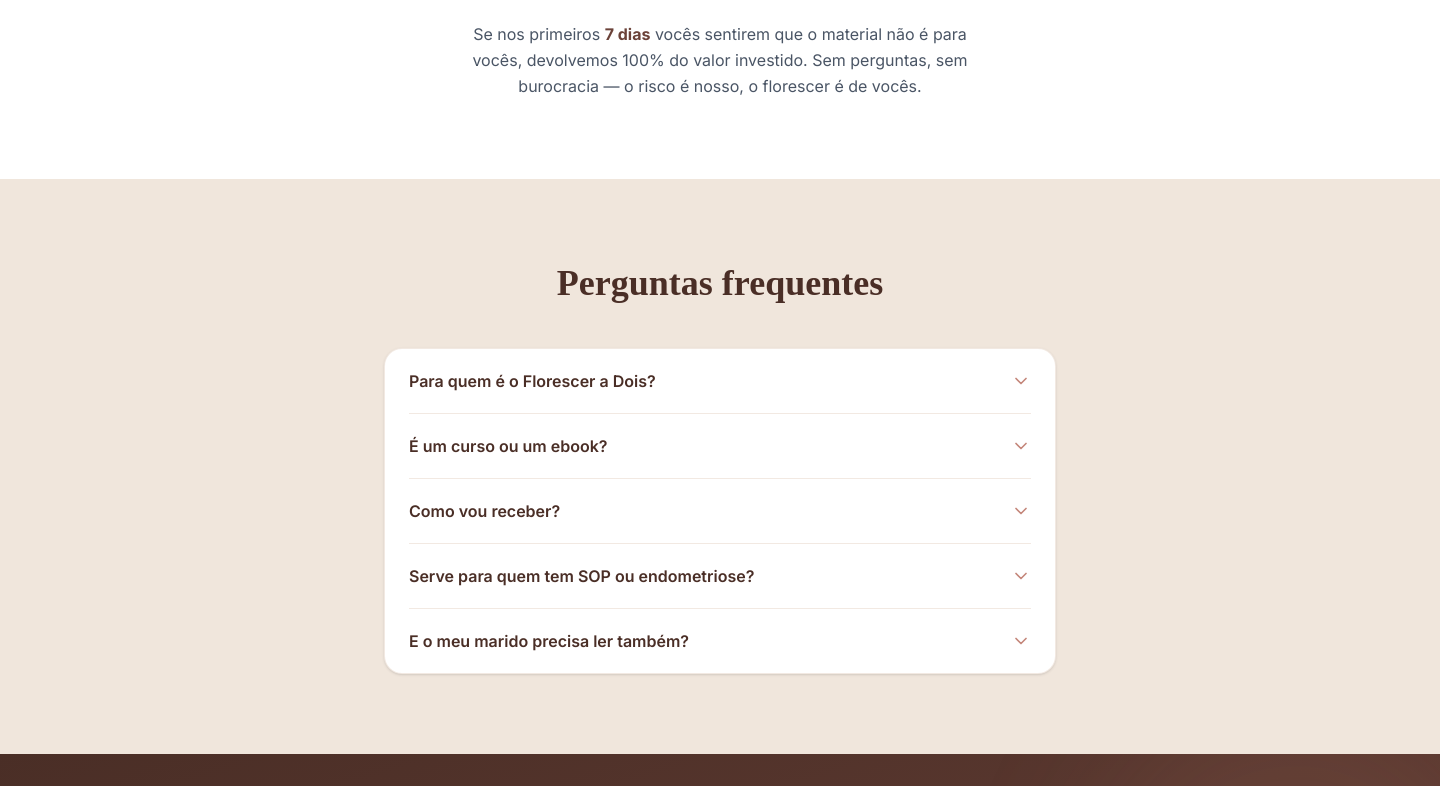
Test: CasalGmPage › abre e fecha uma pergunta do FAQ ao clicar
This screenshot has width=1440, height=786.
(page scrolled)
Click the button "Para quem é o Florescer a Dois?".
click(532, 381)  # box [409,349,1031,413]
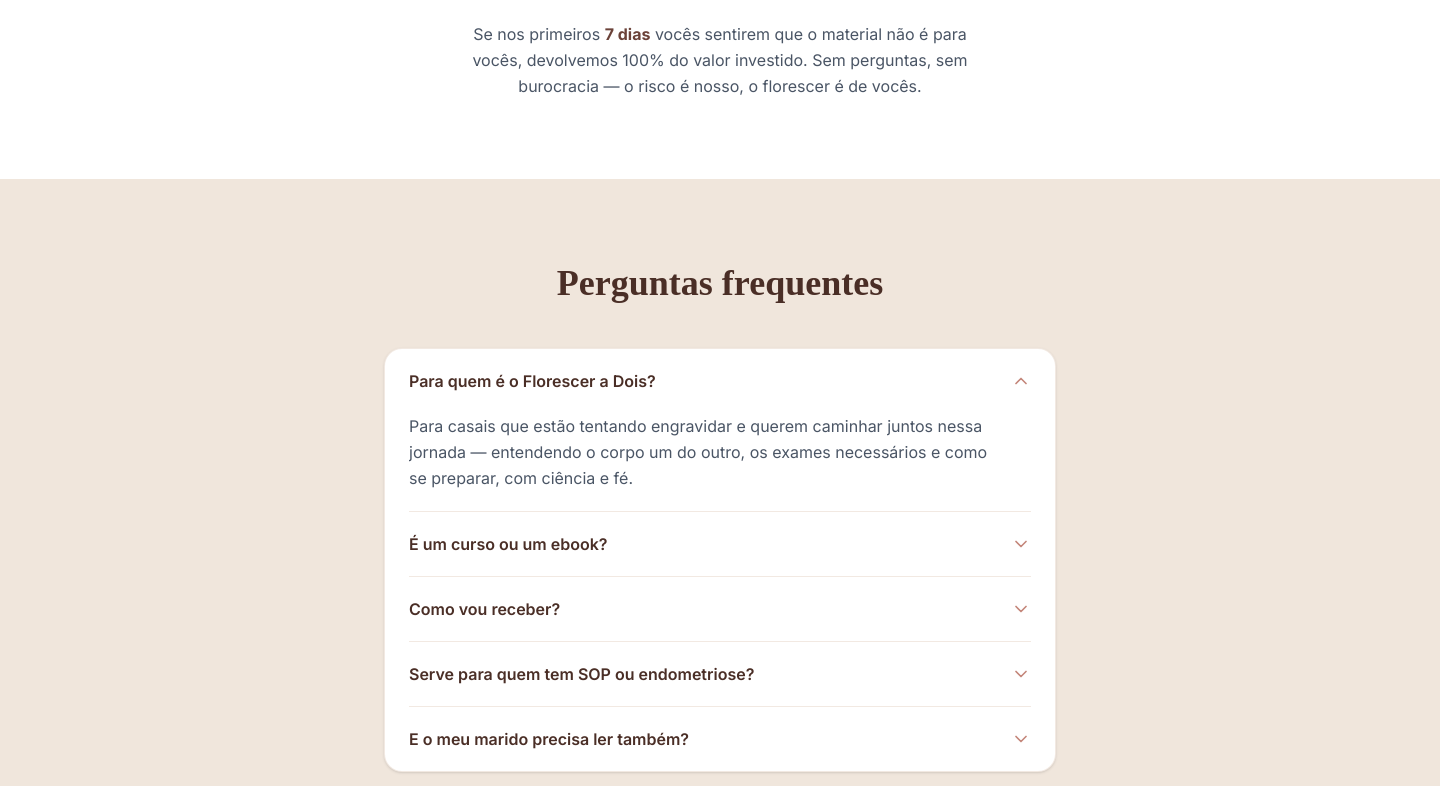
Expected: the button "Para quem é o Florescer a Dois?" is expanded
Click the button "Para quem é o Florescer a Dois?".
click(532, 381)  # box [409,349,1031,413]
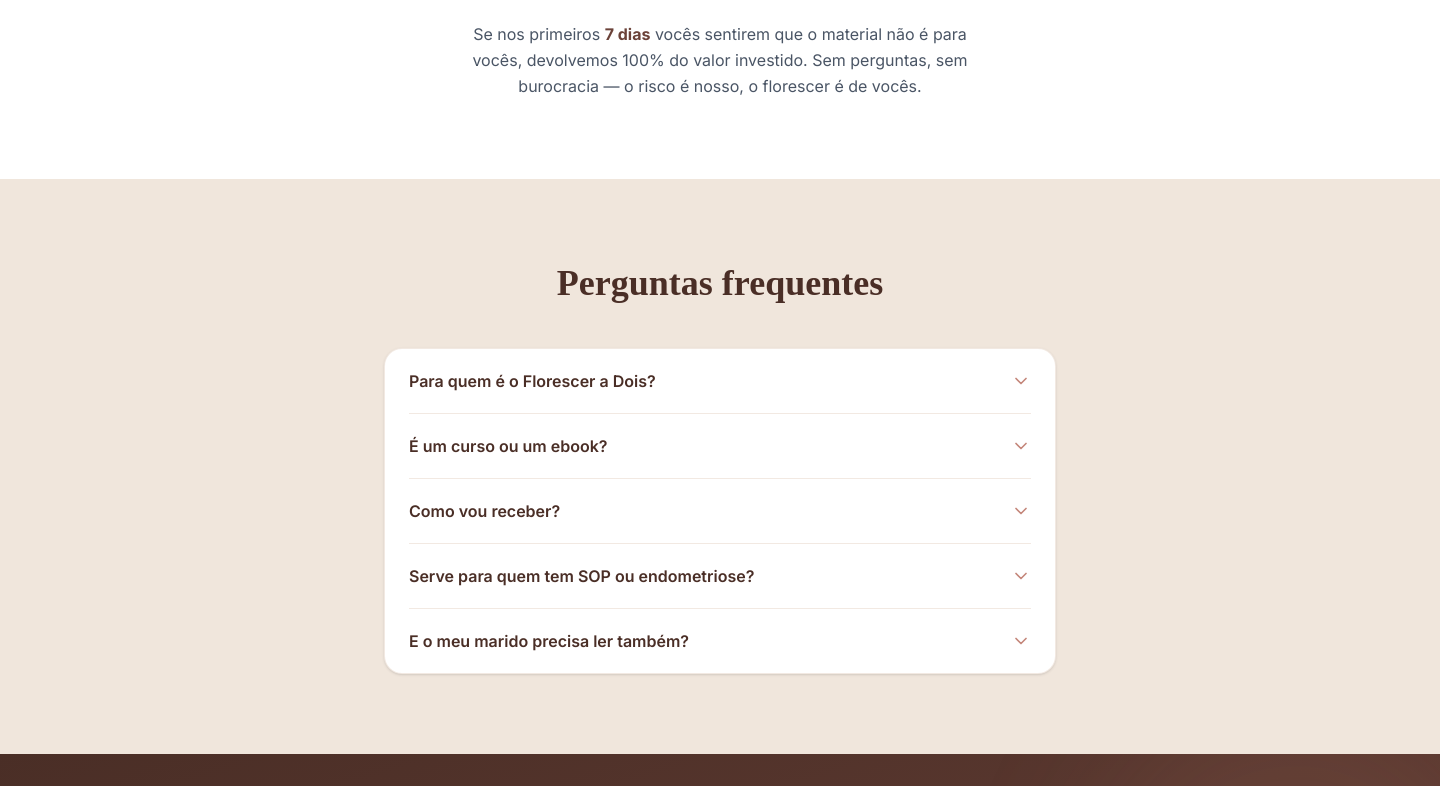
Expected: the button "Para quem é o Florescer a Dois?" is collapsed, [409,349,1031,413]
